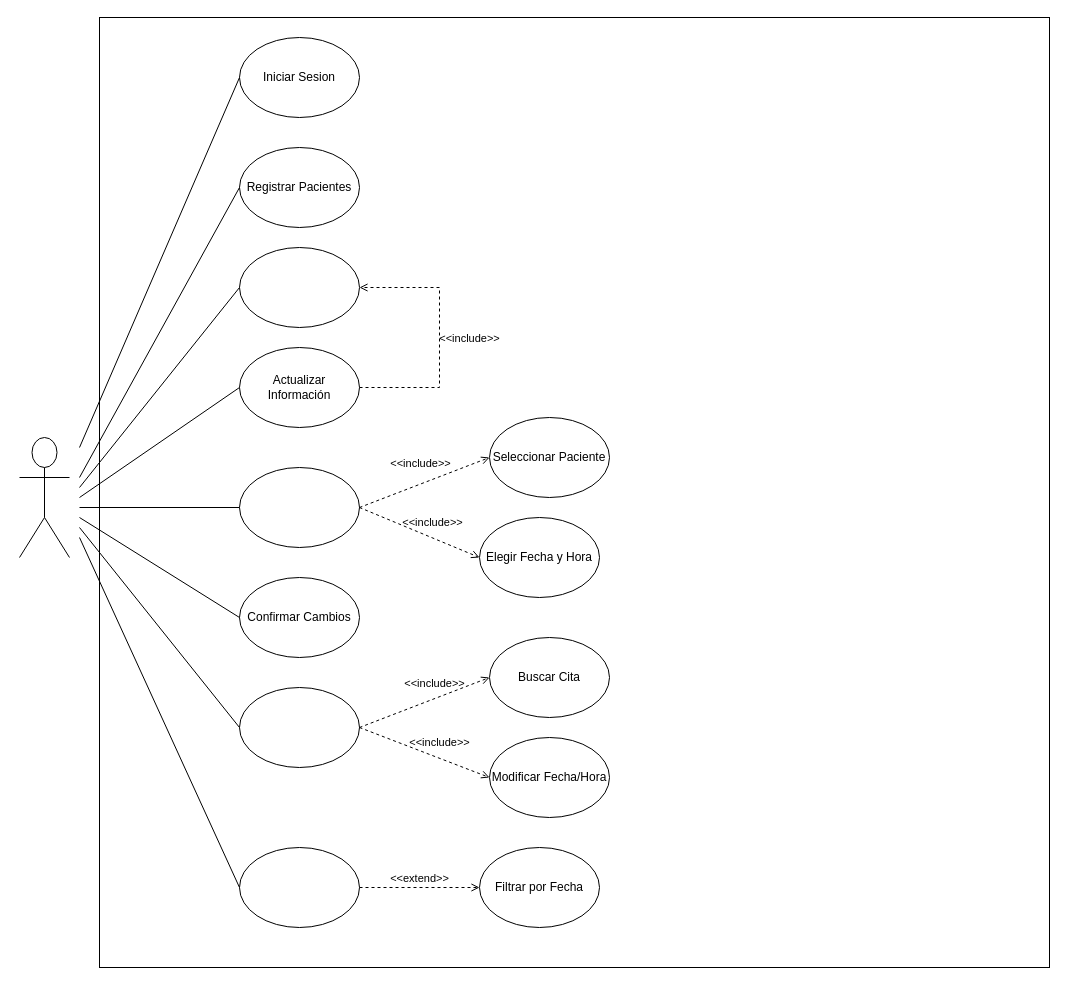
Image size: 1067x985. Some labels were removed from this diagram. Each missing label, with the centre of its shape:
"Agendar Cita" belongs at (299,507).
"Consultar Pacientes" belongs at (299,287).
"Reprogramar Cita" belongs at (299,727).
"Secretaria" belongs at (44,497).
"Ver Agenda" belongs at (299,887).
